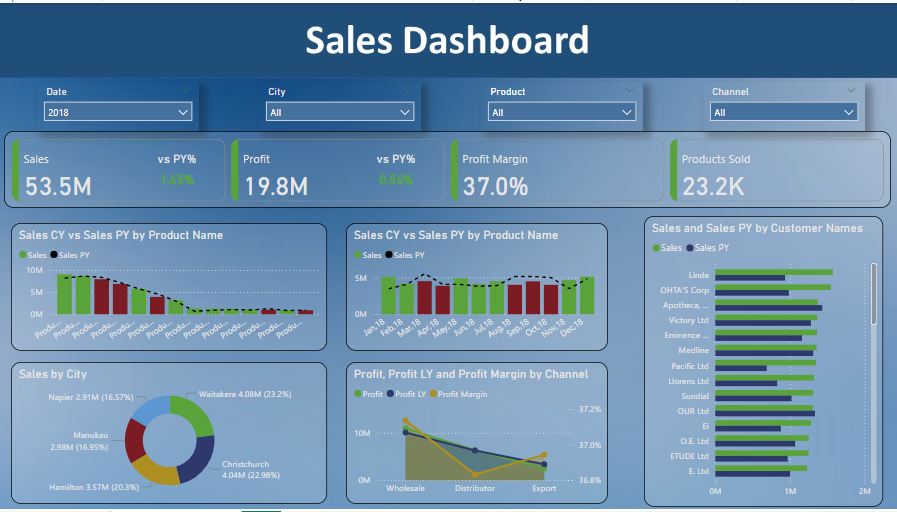

The page's visual inventory and layout, read from the dashboard file:
{"tool":"powerbi","page":{"name":"Sales Dashboard","canvas":[1280,720],"ordinal":0},"visuals":[{"type":"slicer","fields":{"Values":["DateTable.Year","DateTable.Month Short Name Plus Year"]},"box":[58.1,112,230,70],"z":0},{"type":"slicer","fields":{"Values":["Regions_Table.City"]},"box":[373,112,229.6,69.4],"z":1000},{"type":"slicer","fields":{"Values":["Products_Data.Product Name"]},"box":[687.5,112,229.6,69.4],"z":2000},{"type":"slicer","fields":{"Values":["Sales_Data.Channel"]},"box":[1002,112,229.6,69.4],"z":3000},{"type":"lineClusteredColumnComboChart","title":"Sales CY vs Sales PY by Product Name","fields":{"Category":["Products_Data.Product Name"],"Y":["Measure Table.Sales"],"Y2":["Measure Table.Sales PY"]},"box":[21.3,311.8,447.9,181.4],"z":4000},{"type":"lineClusteredColumnComboChart","title":"Sales CY vs Sales PY by Product Name","fields":{"Y":["Measure Table.Sales"],"Y2":["Measure Table.Sales PY"],"Category":["DateTable.Month Short Name Plus Year"]},"box":[496.1,311.8,371.3,181.4],"z":5000},{"type":"donutChart","fields":{"Y":["Measure Table.Sales"],"Category":["Regions_Table.City"]},"box":[21.3,508.8,447.9,201.3],"z":6000},{"type":"areaChart","fields":{"Category":["Sales_Data.Channel"],"Y":["Measure Table.Profit","Measure Table.Profit LY"],"Y2":["Measure Table.Profit Margin"]},"box":[496.1,508.8,371.3,201.3],"z":7000},{"type":"clusteredBarChart","fields":{"Y":["Measure Table.Sales","Measure Table.Sales PY"],"Category":["Customer_Data.Customer Names"]},"box":[918.4,301.9,338.7,412.4],"z":8000},{"type":"cardVisual","fields":{"Data":["Measure Table.Sales","Measure Table.Profit","Measure Table.Profit Margin","Measure Table.Products Sold"]},"box":[11.3,181.4,1257.2,109.1],"z":9000},{"type":"card","title":"vs PY%","fields":{"Values":["Measure Table.Sales vs PY %"]},"box":[209.8,211.2,93.5,60.9],"z":10000},{"type":"card","title":"vs PY%","fields":{"Values":["Measure Table.Profit vs LY %"]},"box":[520.2,211.2,93.5,60.9],"z":11000}]}

Visuals, with their boxes in screenshot pixels (x1, y1, x2, y2), scaled from the page's 1280x720 canvas onto the 897x512 screenshot:
slicer - DateTable.Year x DateTable.Month Short Name Plus Year: 41:80:202:129
slicer - Regions_Table.City: 261:80:422:129
slicer - Products_Data.Product Name: 482:80:643:129
slicer - Sales_Data.Channel: 702:80:863:129
"Sales CY vs Sales PY by Product Name" lineClusteredColumnComboChart: 15:222:329:351
"Sales CY vs Sales PY by Product Name" lineClusteredColumnComboChart: 348:222:608:351
donutChart - Measure Table.Sales x Regions_Table.City: 15:362:329:505
areaChart - Sales_Data.Channel x Measure Table.Profit: 348:362:608:505
clusteredBarChart - Measure Table.Sales x Measure Table.Sales PY: 644:215:881:508
cardVisual - Measure Table.Sales x Measure Table.Profit: 8:129:889:207
"vs PY%" card: 147:150:213:193
"vs PY%" card: 365:150:430:193
